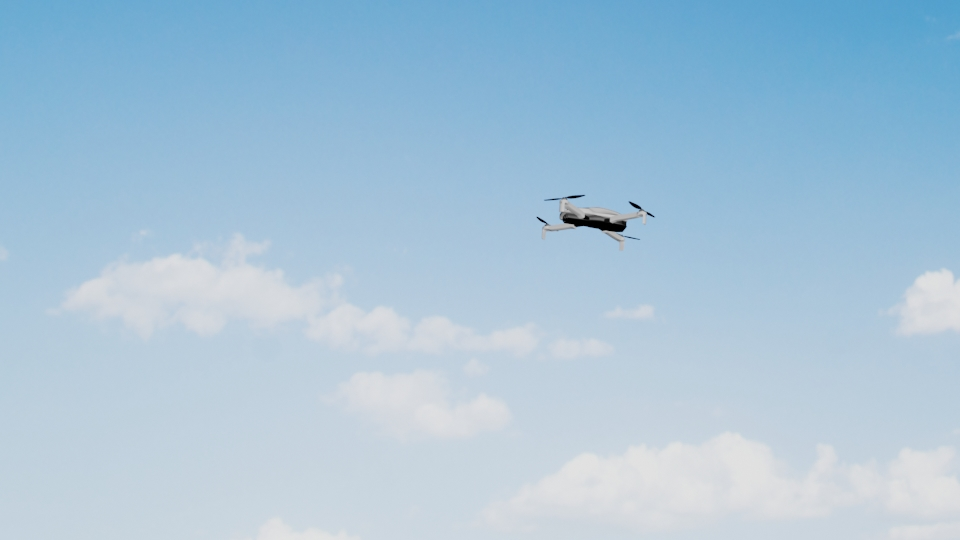drone: (534, 192, 657, 250)
